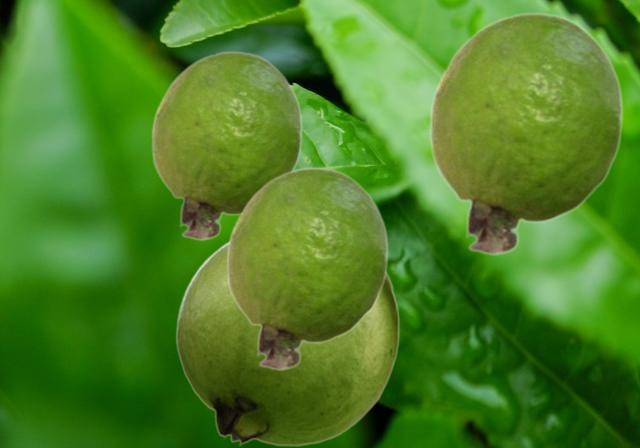guava: (429, 11, 623, 255), (175, 240, 399, 445), (226, 166, 388, 370), (151, 50, 302, 240)
